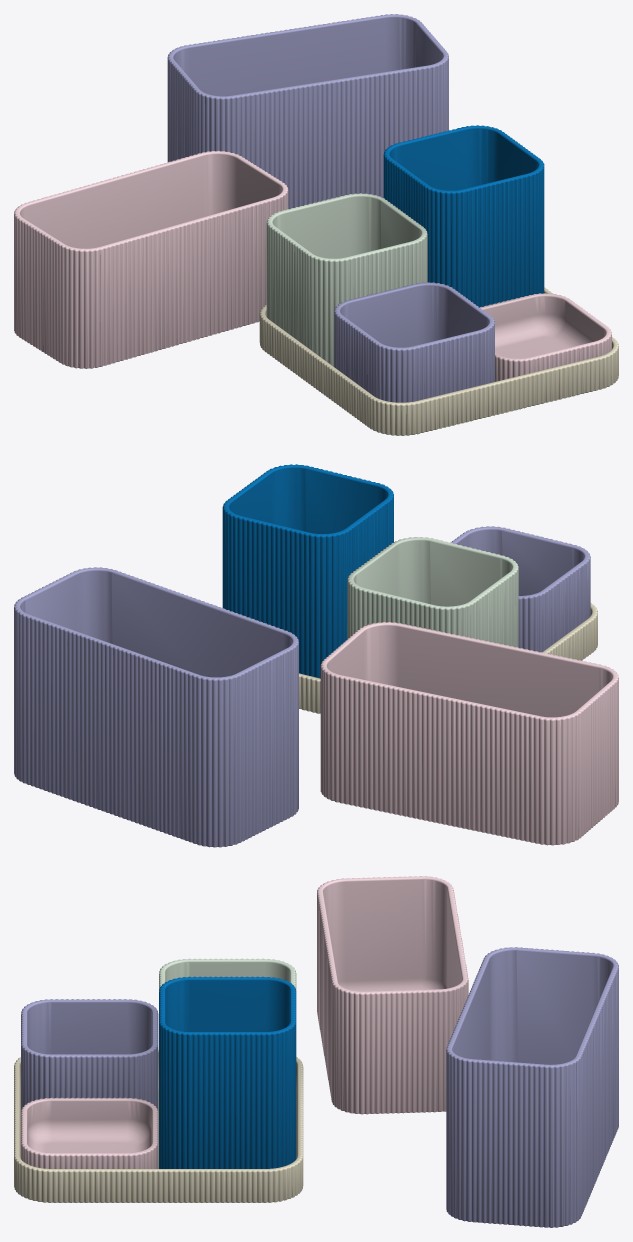
The model's file is masa-organizeri-moduler.glb.
The picture shows the model from 3 angles, top to bottom: view 1: azimuth 30°, elevation 25°; view 2: azimuth 150°, elevation 25°; view 3: azimuth 270°, elevation 25°; orthographic projection. The views are drawn at different scales.
Parts seen in each view (by area): view 1: OrtaGenis, BuyukGenis, Buyuk, Orta, Kucuk, Taban, EnKucuk; view 2: BuyukGenis, OrtaGenis, Buyuk, Orta, Kucuk, Taban; view 3: BuyukGenis, OrtaGenis, Buyuk, Kucuk, Taban, EnKucuk, Orta.
Boxes of the visible parts, bbox=[...] form: OrtaGenis: bbox=[14, 150, 288, 368]; BuyukGenis: bbox=[167, 14, 448, 209]; Buyuk: bbox=[383, 125, 544, 307]; Orta: bbox=[266, 193, 427, 366]; Kucuk: bbox=[334, 282, 494, 402]; Taban: bbox=[259, 287, 618, 435]; EnKucuk: bbox=[480, 293, 611, 381]; BuyukGenis: bbox=[14, 567, 298, 847]; OrtaGenis: bbox=[320, 622, 618, 845]; Buyuk: bbox=[222, 464, 393, 678]; Orta: bbox=[347, 537, 518, 647]; Kucuk: bbox=[450, 526, 590, 652]; Taban: bbox=[299, 603, 597, 713]; BuyukGenis: bbox=[446, 947, 618, 1227]; OrtaGenis: bbox=[317, 876, 468, 1114]; Buyuk: bbox=[159, 976, 296, 1168]; Kucuk: bbox=[21, 999, 158, 1112]; Taban: bbox=[14, 1049, 303, 1202]; EnKucuk: bbox=[21, 1097, 158, 1168]; Orta: bbox=[159, 958, 296, 991].
Size of the model in its own units: 0.308 by 0.103 by 0.3398.
